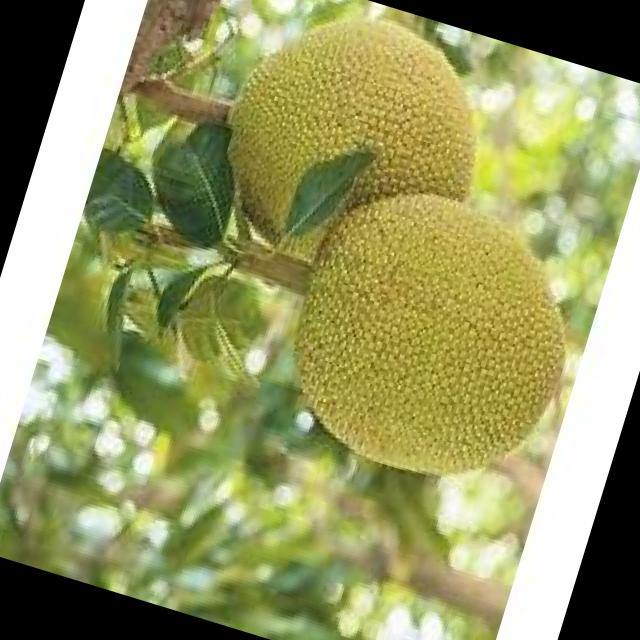Fruit: (237, 122, 620, 527), (177, 0, 528, 322)
